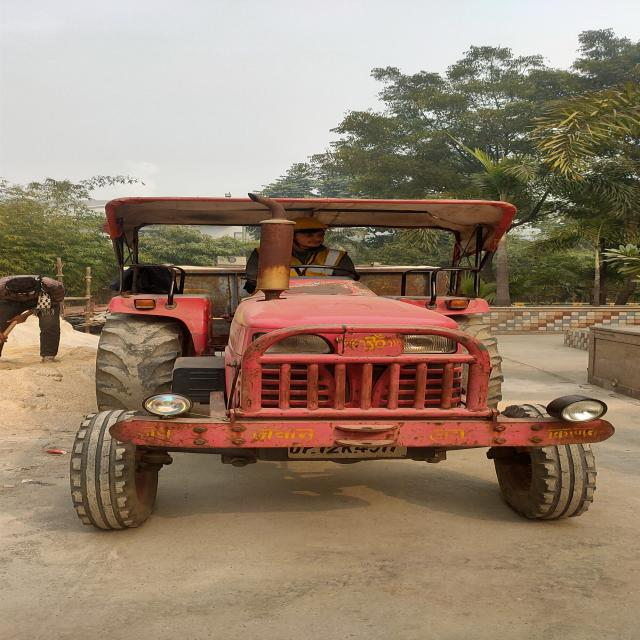safe: (293, 216, 367, 278)
unsafe: (0, 268, 67, 363)
